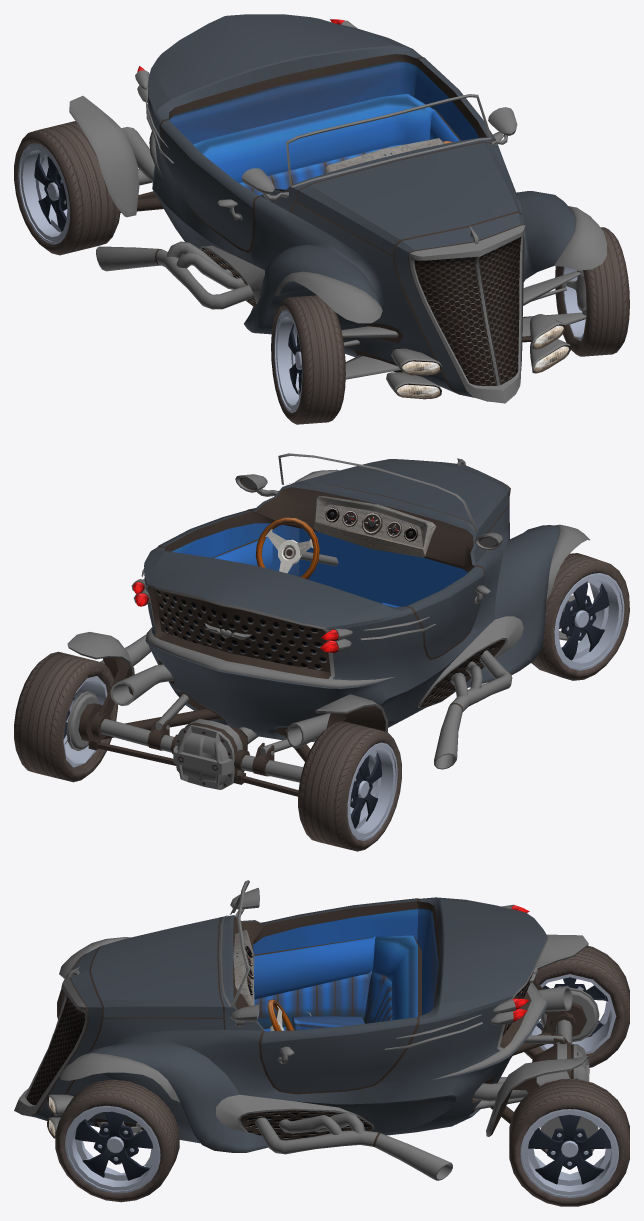
Rendered from real_sportscar.glb.
3 views of the same model, one above another, from view 1: azimuth 30°, elevation 25°; view 2: azimuth 150°, elevation 25°; view 3: azimuth 270°, elevation 25° (orthographic). The views are drawn at different scales.
Visible parts, largest first — view 1: Body1.31, REAR_LEFT1.19, FRONT_LEFT1.18, FRONT_LEFT.21, polySurface10.6, polySurface3.32, Headlights_Chrome.16, Axle_front_right.29, polySurface22.30, polySurface9.24, polySurface19.28, polySurface16.27; view 2: Body1.31, polySurface7.23, REAR_LEFT1.19, FRONT_LEFT1.18, REAR_LEFT.20, polySurface3.32, polySurface10.6, polySurface9.24, SteeringWheel.2, polySurface22.30, polySurface16.27; view 3: Body1.31, REAR_LEFT.20, FRONT_LEFT.21, REAR_LEFT1.19, polySurface10.6, polySurface7.23, polySurface3.32, polySurface9.24, polySurface22.30, Headlights_Chrome.16, SteeringWheel.2.
Part boxes in pixels (box(x1,y1,x2,y2)): Body1.31: box(145, 14, 607, 403); REAR_LEFT1.19: box(14, 121, 120, 255); FRONT_LEFT1.18: box(271, 295, 345, 424); FRONT_LEFT.21: box(555, 227, 629, 356); polySurface10.6: box(96, 241, 254, 309); polySurface3.32: box(69, 96, 139, 217); Headlights_Chrome.16: box(386, 314, 570, 399); Axle_front_right.29: box(341, 270, 586, 379); polySurface22.30: box(286, 94, 491, 187); polySurface9.24: box(121, 127, 154, 182); polySurface19.28: box(241, 168, 288, 200); polySurface16.27: box(488, 107, 517, 146); Body1.31: box(141, 459, 589, 741); polySurface7.23: box(66, 691, 310, 796); REAR_LEFT1.19: box(298, 721, 401, 851); FRONT_LEFT1.18: box(531, 553, 629, 680); REAR_LEFT.20: box(14, 651, 117, 782); polySurface3.32: box(67, 632, 388, 732); polySurface10.6: box(100, 634, 512, 769); polySurface9.24: box(110, 664, 330, 748); SteeringWheel.2: box(255, 517, 338, 579); polySurface22.30: box(278, 453, 478, 532); polySurface16.27: box(235, 474, 278, 496); Body1.31: box(14, 897, 548, 1152); REAR_LEFT.20: box(509, 1079, 629, 1206); FRONT_LEFT.21: box(55, 1079, 179, 1202); REAR_LEFT1.19: box(524, 945, 629, 1067); polySurface10.6: box(251, 1012, 452, 1180); polySurface7.23: box(474, 987, 599, 1153); polySurface3.32: box(486, 934, 588, 1136); polySurface9.24: box(472, 985, 572, 1101); polySurface22.30: box(220, 880, 249, 1007); Headlights_Chrome.16: box(47, 1035, 73, 1138); SteeringWheel.2: box(267, 999, 293, 1031).
Bounding box in the file's own units: 0.0187 × 0.0107 × 0.0281.
Materials: 59 (59 with a texture image).
